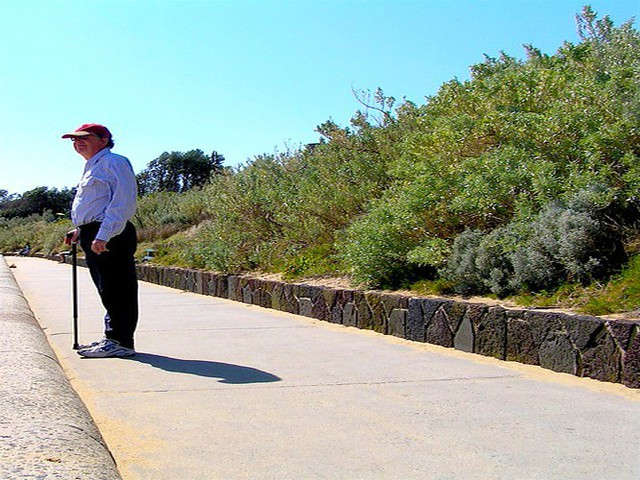Person: (54, 121, 153, 364)
